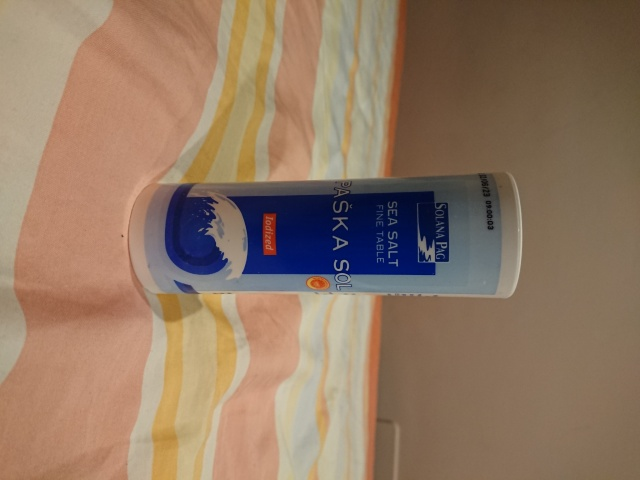Solana Pag Fine Sea Salt 250g: (124, 167, 526, 303)
